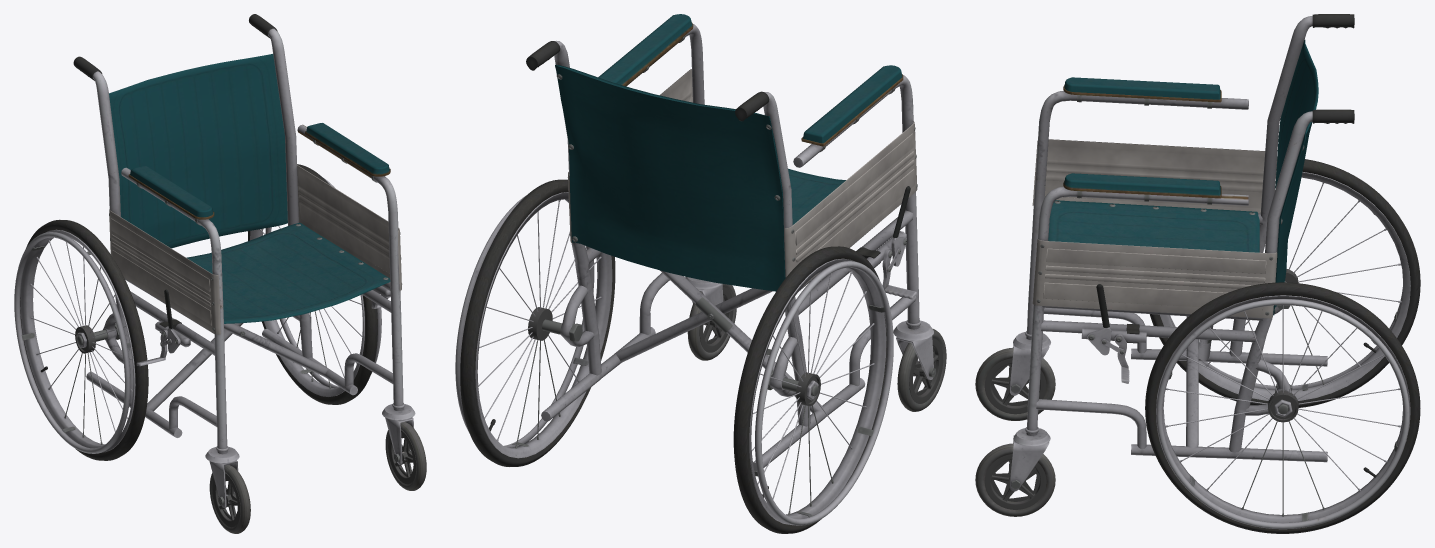
The model's file is Wheelchair.fbx.
The picture shows the model from 3 angles, left to right: view 1: azimuth 30°, elevation 25°; view 2: azimuth 150°, elevation 25°; view 3: azimuth 270°, elevation 25°; orthographic projection. The views are drawn at different scales.
Visible parts, largest first — view 1: Wheelchair; view 2: Wheelchair; view 3: Wheelchair.
Boxes of the visible parts, box(x1,y1,x2,y2) form: Wheelchair: box(14, 14, 426, 533); Wheelchair: box(455, 14, 946, 533); Wheelchair: box(975, 14, 1420, 533).
Bounding box in the file's own units: 82.41 × 110 × 109.
